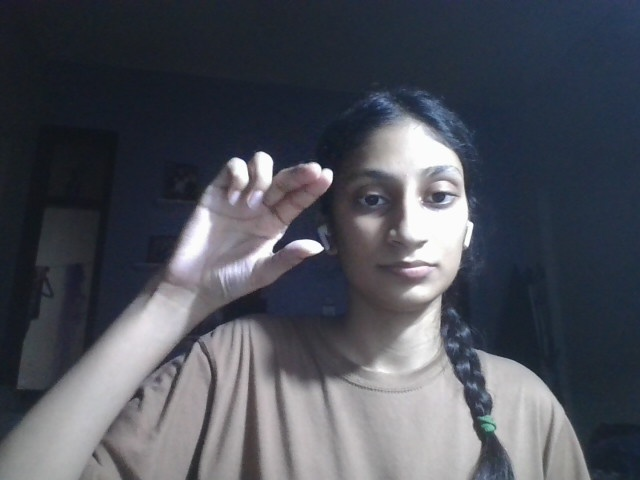no: (183, 149, 337, 297)
